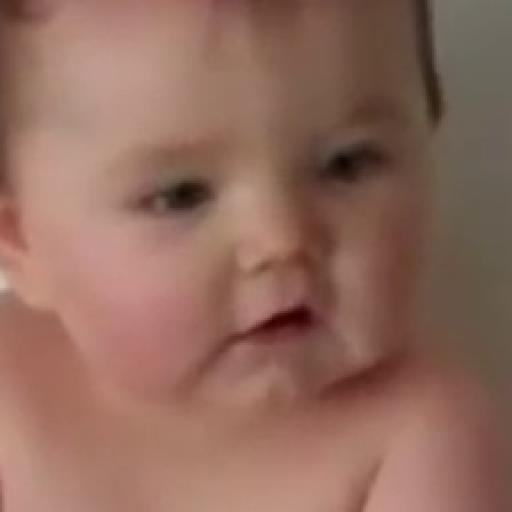Autism: (14, 4, 444, 416)
